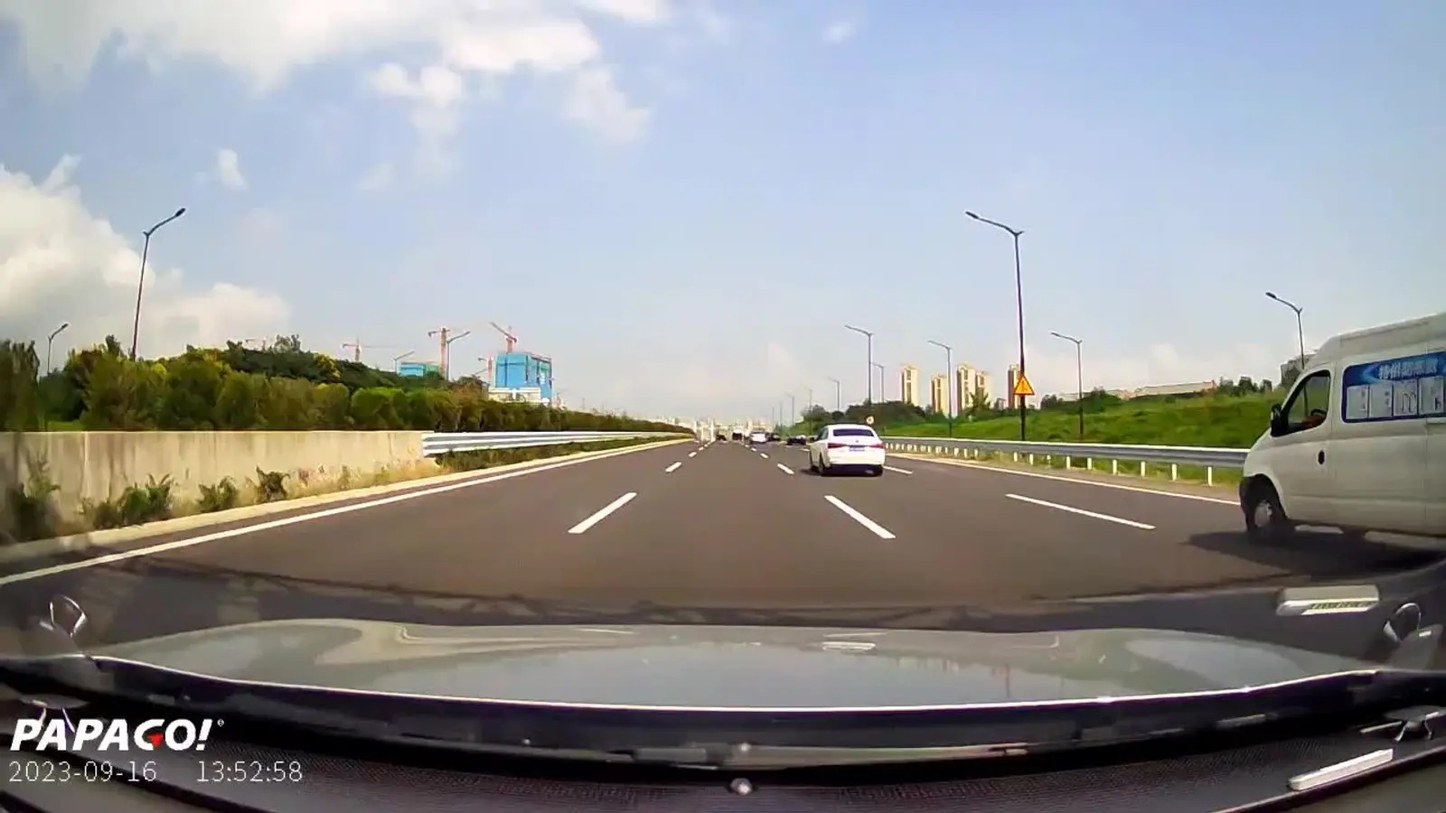lane: (28, 481, 412, 588), (985, 455, 1239, 506), (407, 453, 614, 511), (1001, 487, 1164, 532), (823, 491, 897, 545), (560, 492, 644, 539), (662, 454, 683, 476), (778, 462, 795, 472)
